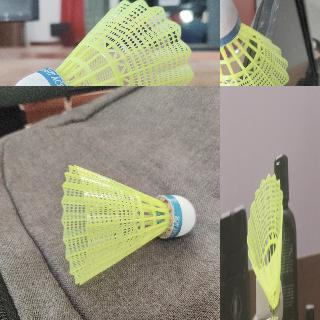shuttlecock: (62, 164, 196, 284), (8, 0, 192, 85), (220, 0, 289, 85), (246, 173, 282, 320)
